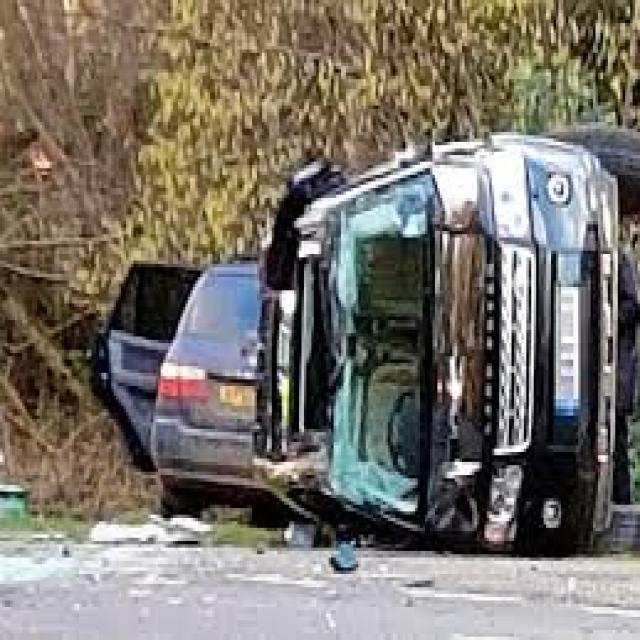accident: (267, 115, 640, 579)
